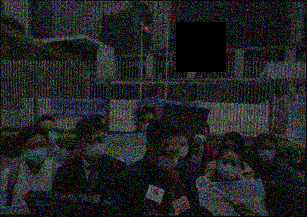with_mask: (154, 144, 181, 173), (22, 140, 49, 166), (82, 134, 107, 160), (216, 156, 241, 181), (38, 126, 57, 149), (257, 143, 276, 162), (138, 115, 154, 133), (193, 130, 208, 146), (178, 140, 189, 159)
